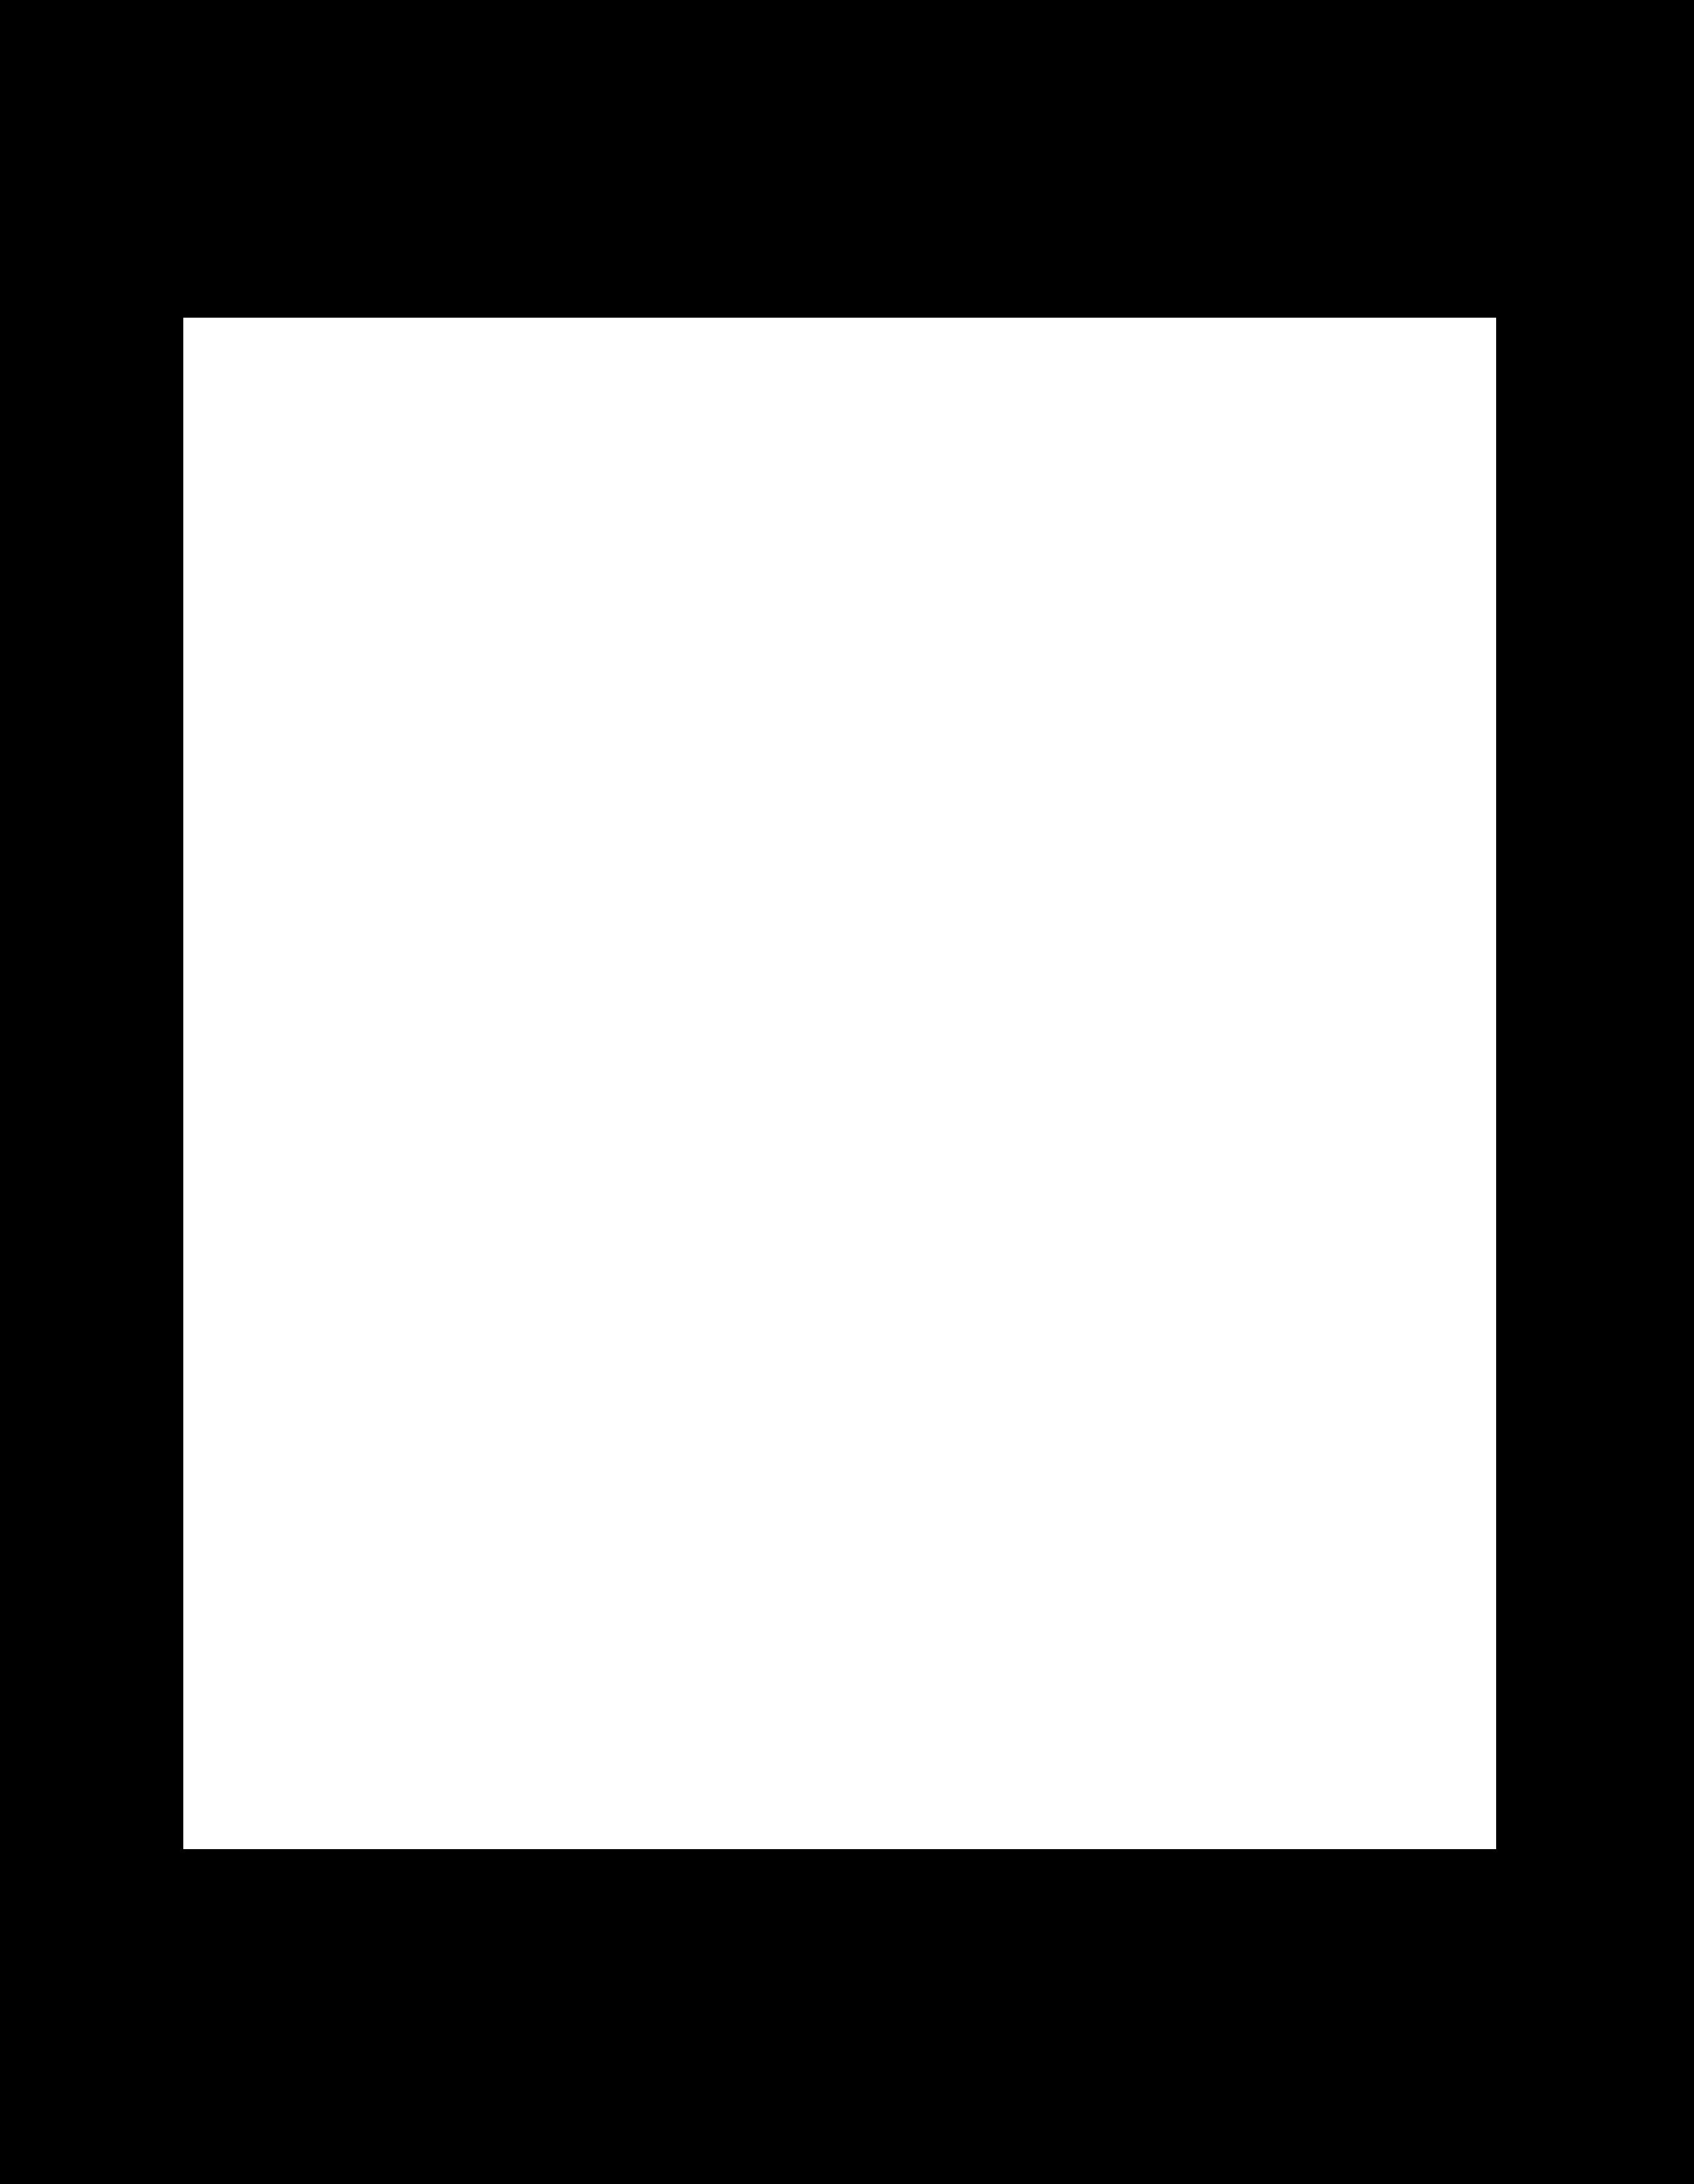table: (183, 317, 1496, 1849)
